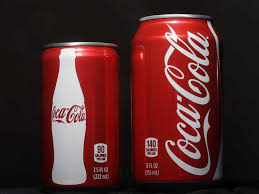can: (129, 7, 227, 191), (31, 38, 126, 184)
